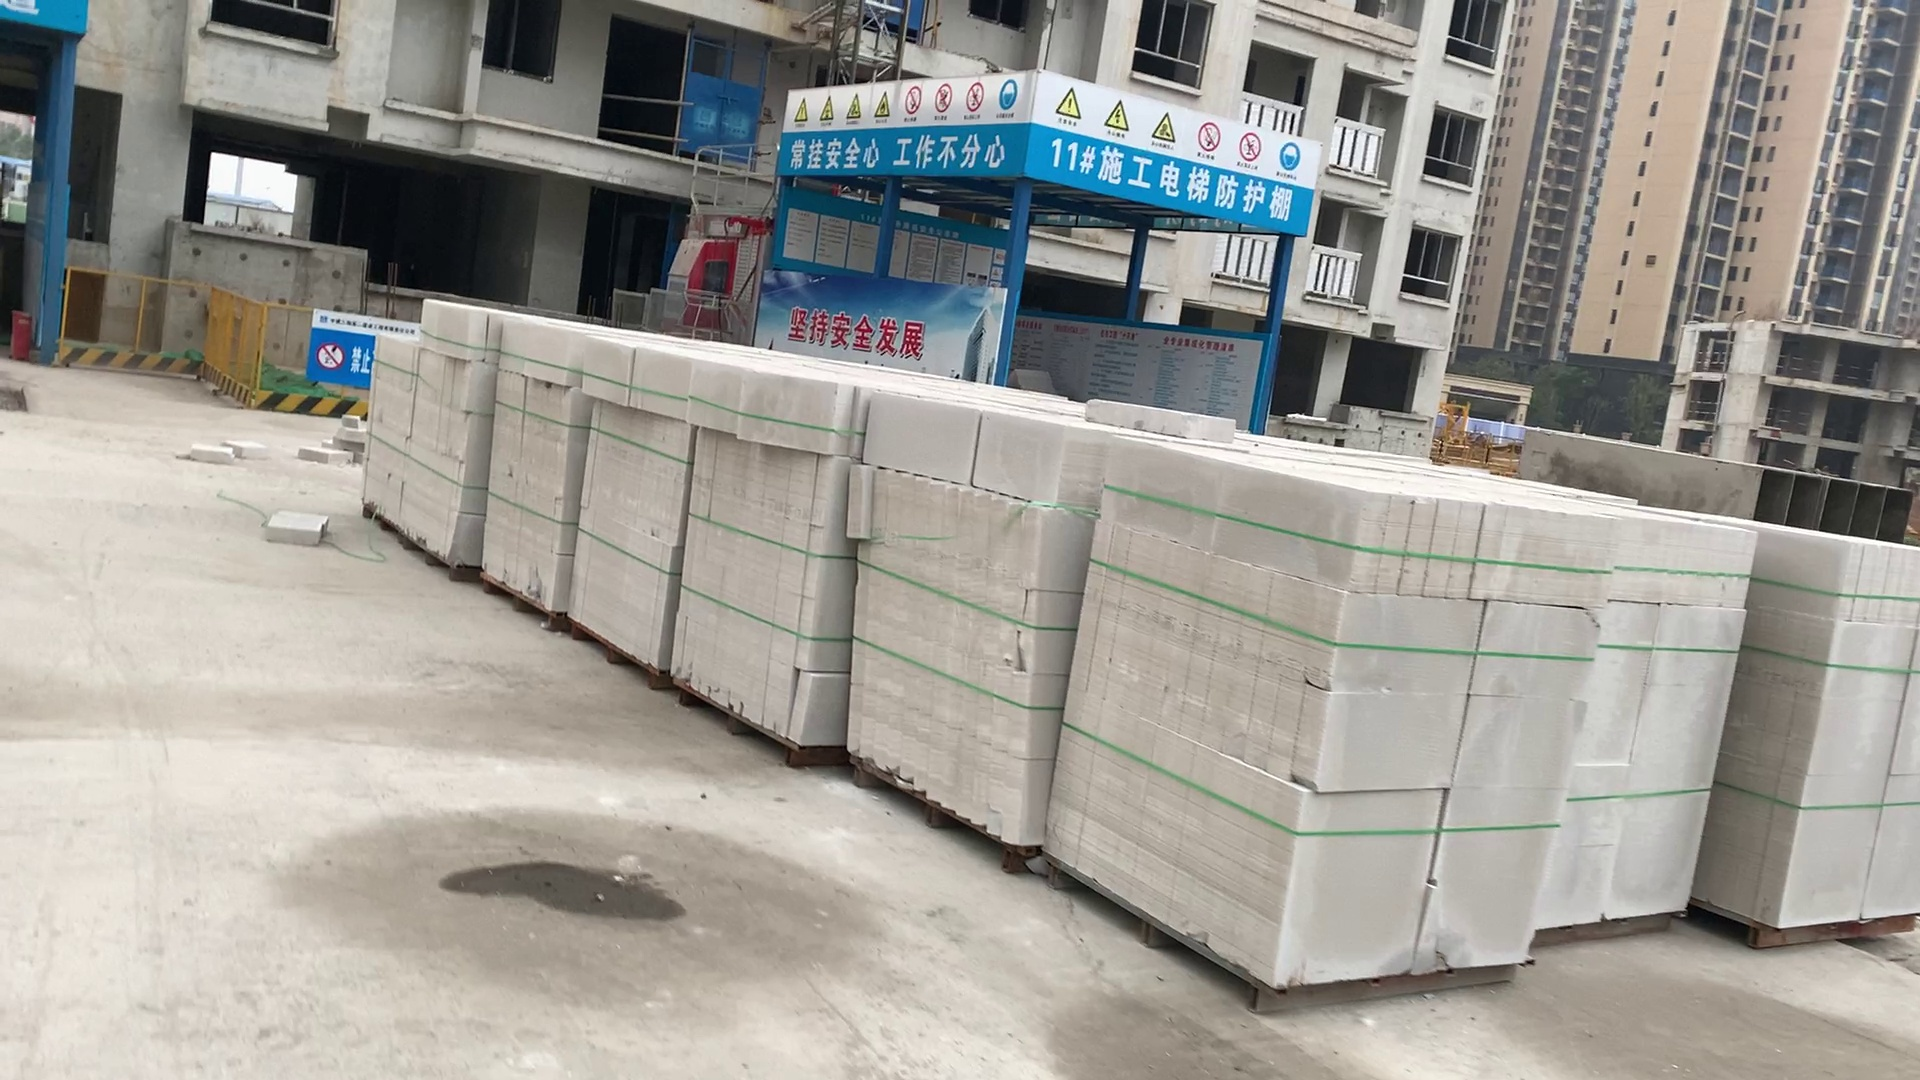brickwork: (1050, 431, 1345, 985), (847, 402, 1039, 839), (1737, 529, 1920, 939), (1542, 512, 1716, 927), (683, 357, 829, 745), (360, 299, 484, 560), (582, 334, 676, 673), (481, 322, 568, 608)
